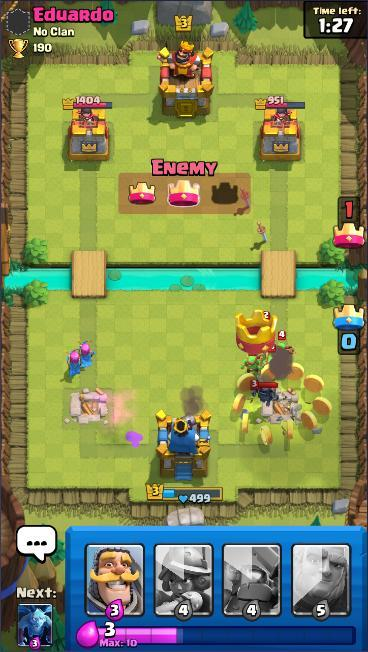ally_archer: (73, 338, 98, 370), (62, 345, 87, 377)
enemy_archer: (256, 310, 279, 341)
enemy_mini_pekka: (247, 376, 282, 408)
enemy_spear_goblin: (269, 329, 298, 362), (239, 351, 268, 379), (258, 337, 279, 372)
